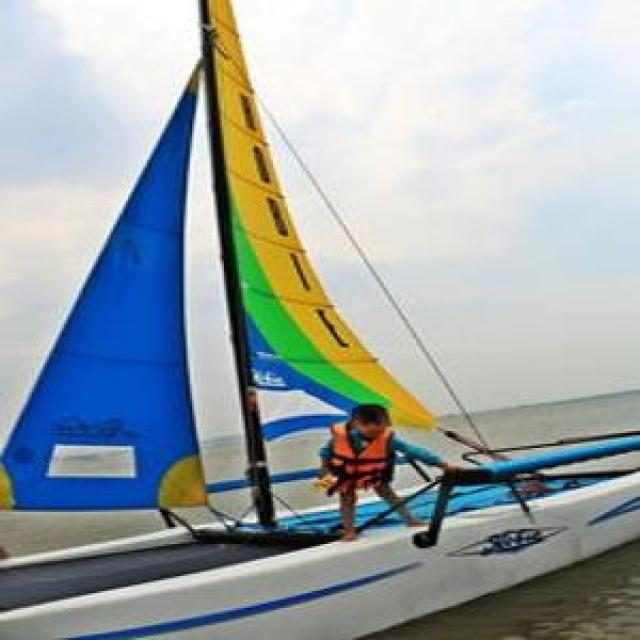sailboat: (6, 0, 638, 640)
